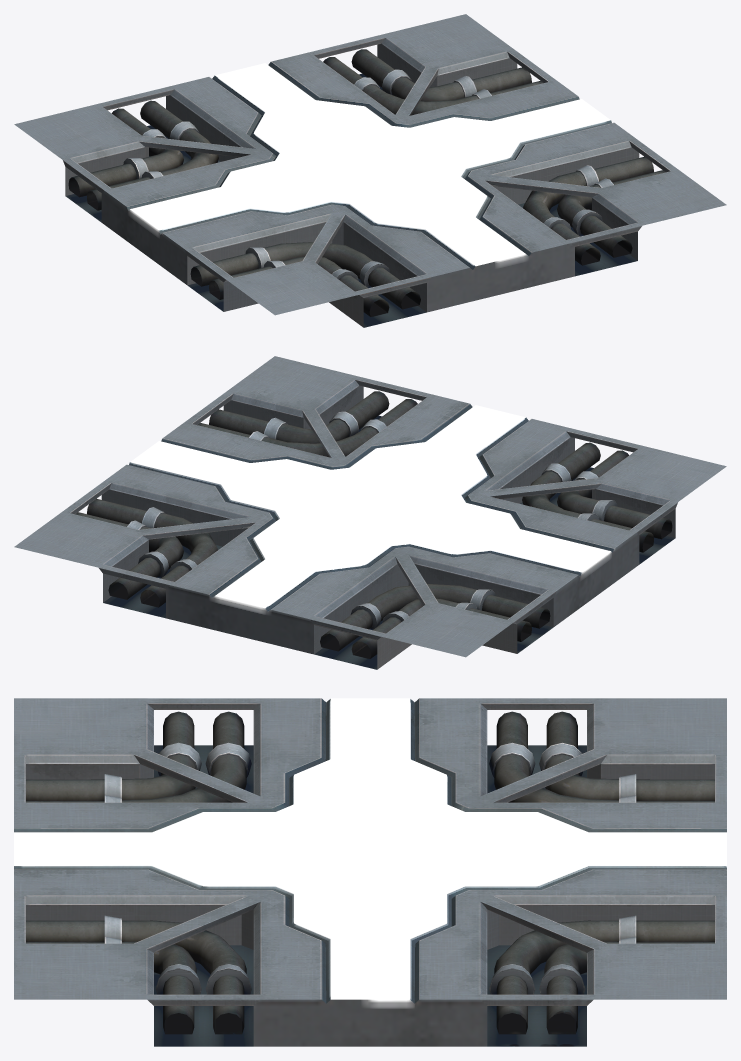
Rendered from DS_SM011_Scifi_Room_FloorPipeCross_01_LP.fbx.
The picture shows the model from 3 angles, top to bottom: view 1: azimuth 30°, elevation 25°; view 2: azimuth 150°, elevation 25°; view 3: azimuth 270°, elevation 25°; orthographic projection. The views are drawn at different scales.
Parts seen in each view (by area): view 1: DS_SM011_Scifi_Room_FloorPipeCross_01_LP; view 2: DS_SM011_Scifi_Room_FloorPipeCross_01_LP; view 3: DS_SM011_Scifi_Room_FloorPipeCross_01_LP.
Boxes of the visible parts, box(x1,y1,x2,y2) form: DS_SM011_Scifi_Room_FloorPipeCross_01_LP: box(14, 14, 726, 327); DS_SM011_Scifi_Room_FloorPipeCross_01_LP: box(14, 356, 726, 669); DS_SM011_Scifi_Room_FloorPipeCross_01_LP: box(14, 698, 726, 1046).
Size of the model in its own units: 400 by 28.95 by 400.
